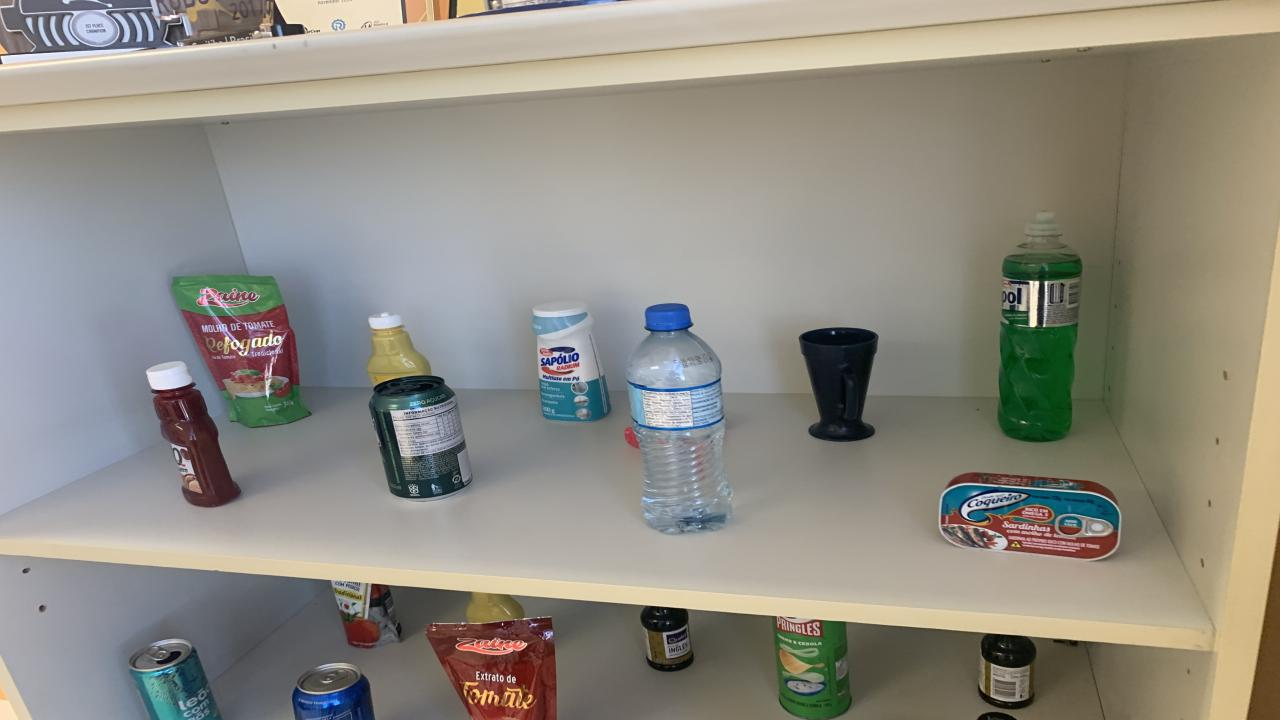Cleaner-Cleanup_Items: (532, 302, 610, 422)
Detergent-Cleanup_Items: (998, 212, 1082, 442)
English_Sauce-Pantry_Items: (978, 634, 1035, 709), (640, 606, 695, 671)
Guarana_Can-Drinks: (370, 375, 472, 501)
Ketchup-Pantry_Items: (148, 362, 240, 506)
Mustard-Pantry_Items: (368, 313, 430, 386), (465, 592, 525, 622)
Pringles-Snacks: (775, 617, 850, 718)
Tea-Drinks: (130, 639, 222, 720)
Tomato_Sauce-Pantry_Items: (172, 276, 310, 428), (425, 617, 558, 720), (332, 581, 402, 649)
Tonic-Drinks: (292, 664, 375, 720)
Tuna_Can-Pantry_Items: (940, 472, 1122, 561)
Water_Bottle-Drinks: (628, 304, 732, 534)
